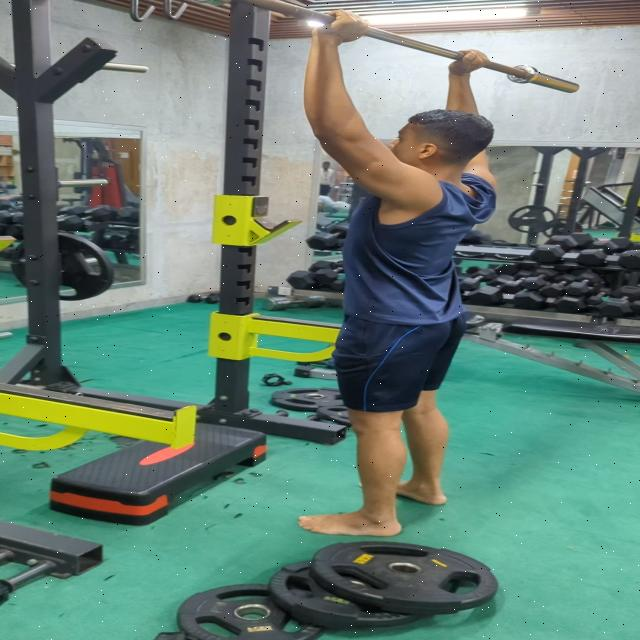Normal_OverheadPress: (266, 8, 498, 547)
